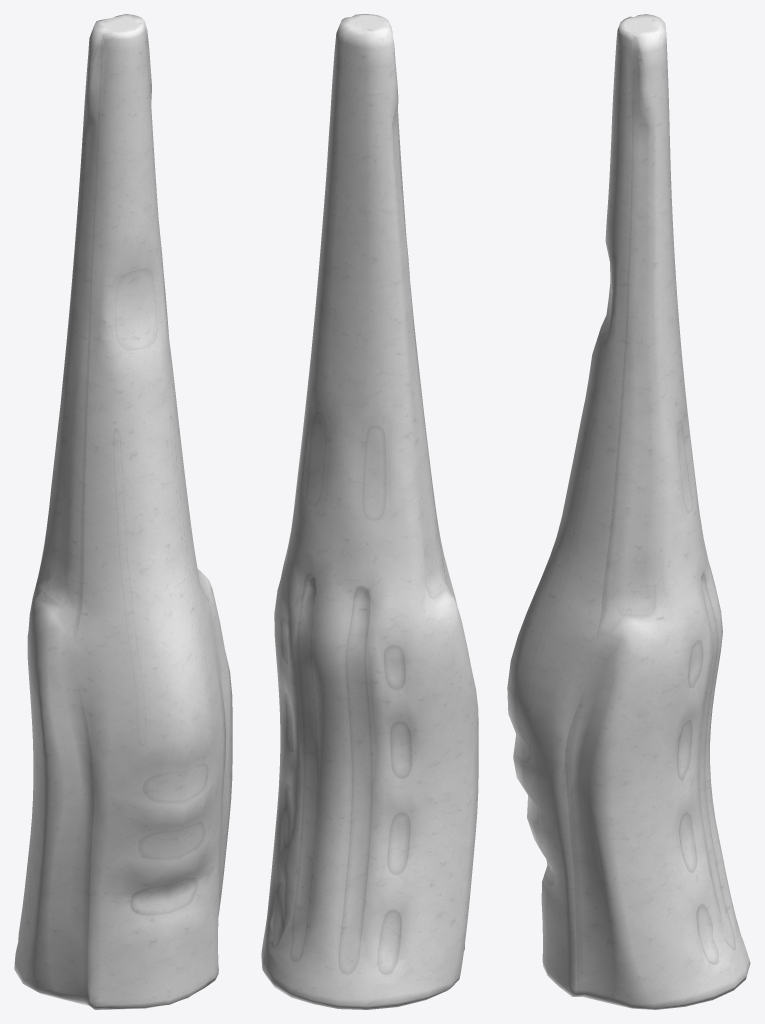
Rendered from VaseFloor02.FBX.
3 renders of one model, left to right at view 1: azimuth 30°, elevation 25°; view 2: azimuth 150°, elevation 25°; view 3: azimuth 270°, elevation 25°, orthographic.
Parts seen in each view (by area): view 1: VaseFloor02; view 2: VaseFloor02; view 3: VaseFloor02.
Part boxes in pixels (bbox=[...]): VaseFloor02: bbox=[14, 14, 232, 1009]; VaseFloor02: bbox=[261, 14, 478, 1009]; VaseFloor02: bbox=[507, 14, 750, 1009].
Size of what is drawn, in the model's own units: 0.3503 by 1.7 by 0.3966.
